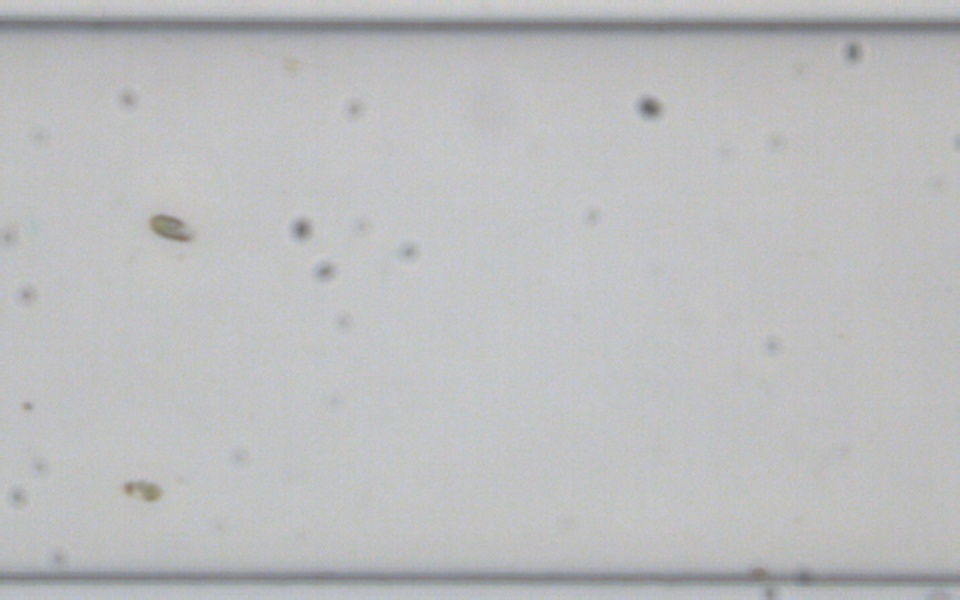Dunaliella salina: (148, 213, 194, 244), (116, 477, 164, 504)
